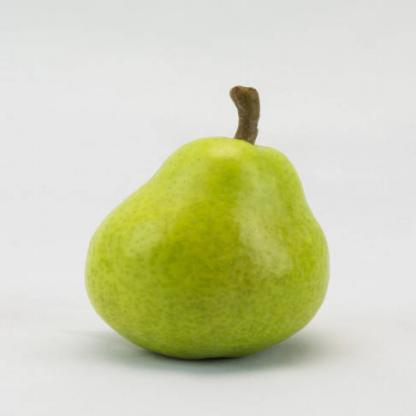Paer: (74, 67, 343, 364)
